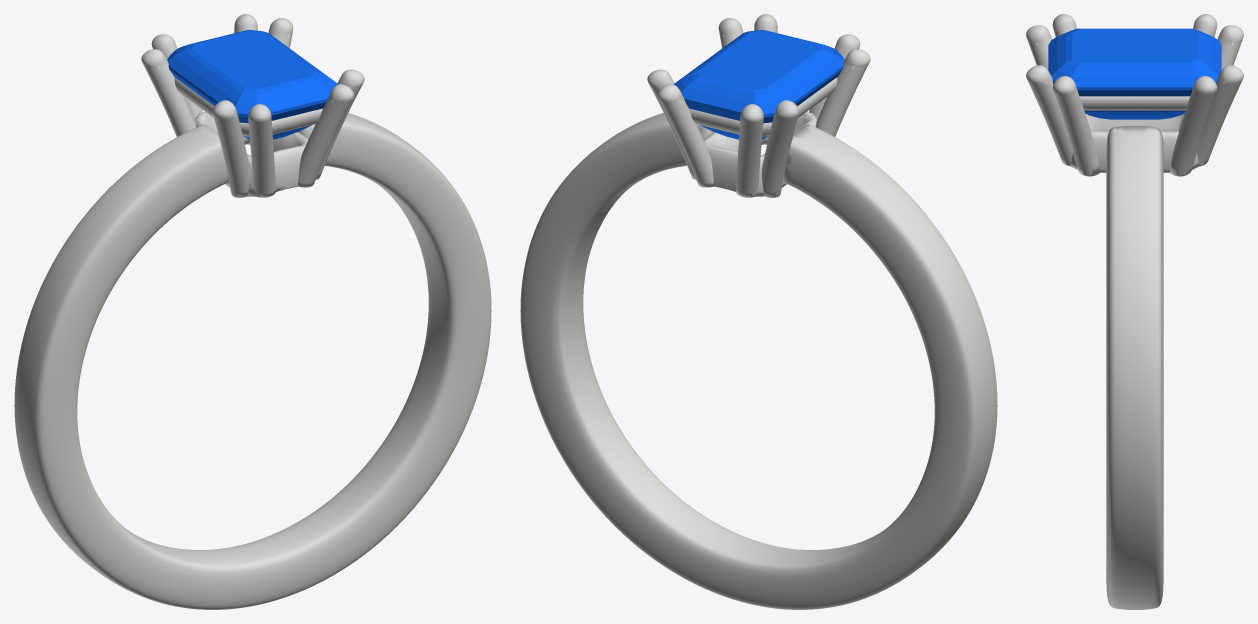
The model's file is bluesapphire-emerald-platinum-8prong-straightband-solitaire.glb.
3 views of the same model, side by side, from view 1: azimuth 30°, elevation 25°; view 2: azimuth 150°, elevation 25°; view 3: azimuth 270°, elevation 25° (orthographic).
Parts seen in each view (by area): view 1: metal.002, stone; view 2: metal.002, stone; view 3: metal.002, stone.
Boxes of the visible parts, left/top/right/bottom form: metal.002: left=14, top=14, right=491, bottom=609; stone: left=167, top=29, right=338, bottom=139; metal.002: left=520, top=14, right=997, bottom=609; stone: left=673, top=29, right=844, bottom=139; metal.002: left=1026, top=14, right=1243, bottom=609; stone: left=1048, top=28, right=1221, bottom=119.
Bounding box in the file's own units: 20.5 × 22.95 × 8.4.
